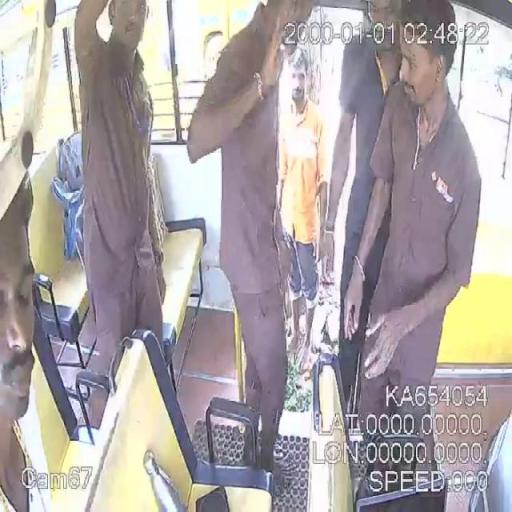persona: (340, 0, 483, 510), (185, 0, 316, 478), (72, 0, 170, 429), (320, 2, 410, 411), (276, 46, 330, 387), (0, 169, 48, 512)
